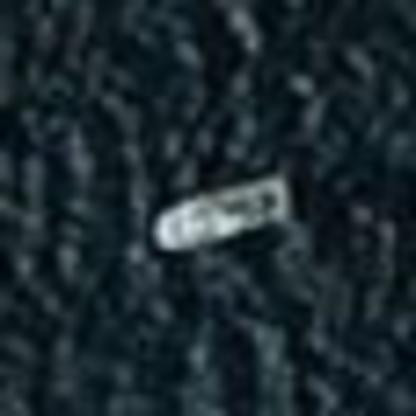ship: (145, 162, 299, 260)
